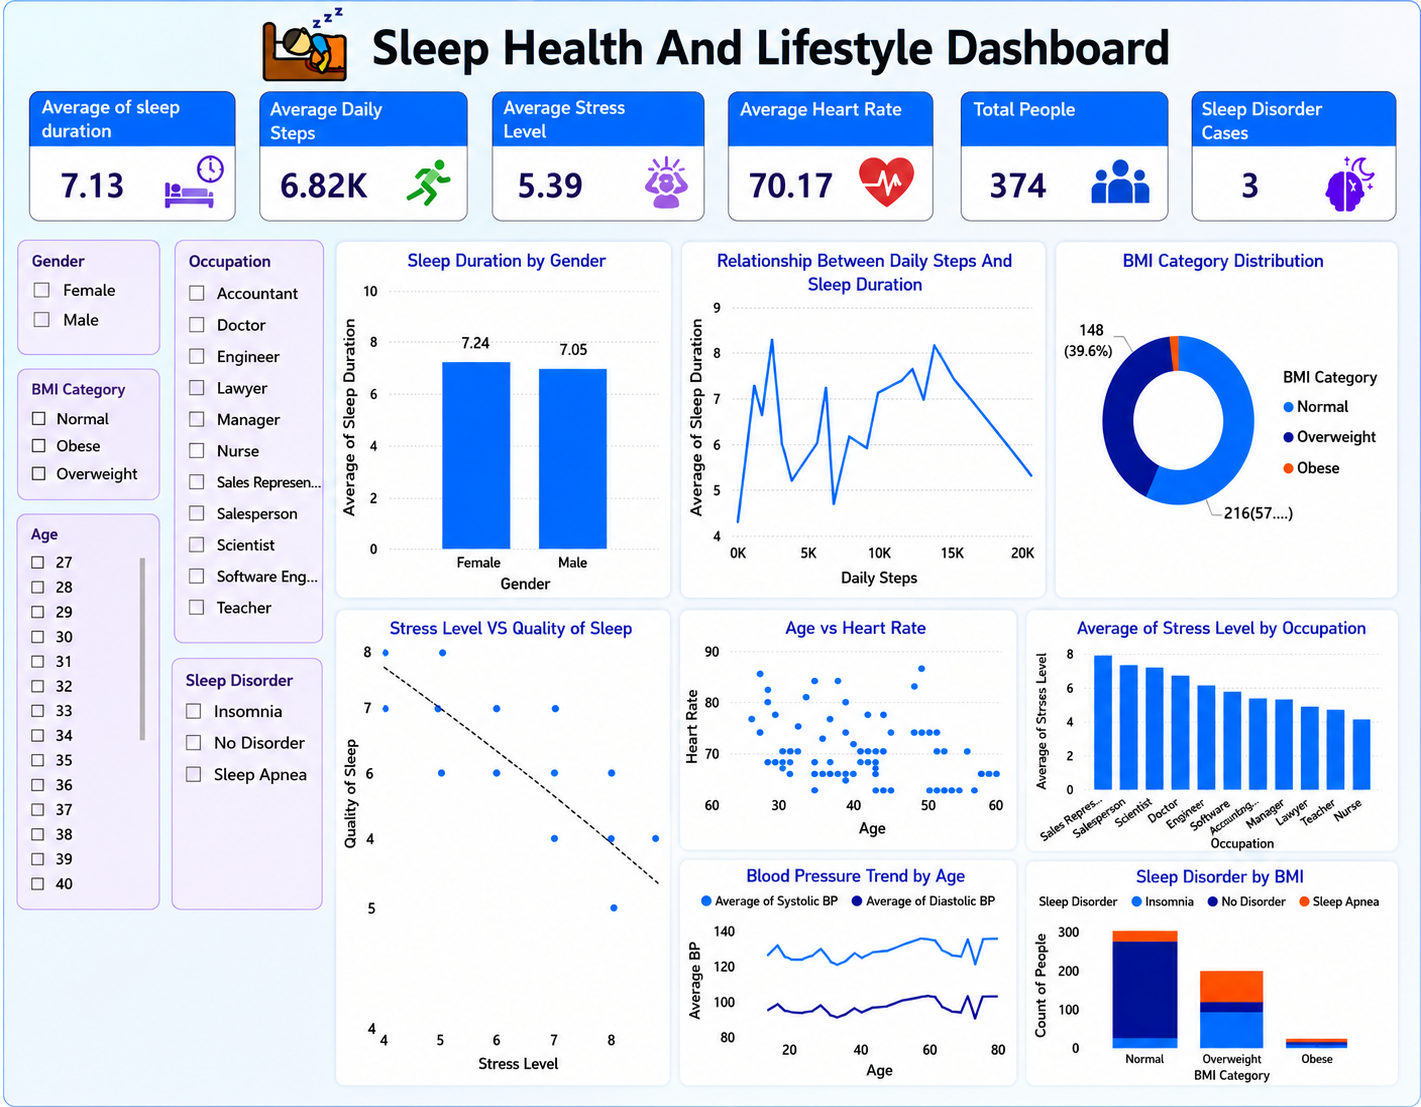

The page's visual inventory and layout, read from the dashboard file:
{"tool":"powerbi","page":{"name":"Page 1","canvas":[1701,1296],"ordinal":0},"visuals":[{"type":"textbox","box":[0,0,1700.2,86.4],"z":0},{"type":"cardVisual","title":"Average of  sleep duration","fields":{"Data":["Avg(Sheet1.Sleep Duration)"]},"box":[32.5,101.2,221.2,130],"z":1000},{"type":"cardVisual","title":"Average Stress Level","fields":{"Data":["Avg(Sheet1.Stress Level)"]},"box":[593.8,105,221.2,126.2],"z":2000},{"type":"cardVisual","title":"Average  Daily Steps","fields":{"Data":["Avg(Sheet1.Daily Steps)"]},"box":[323.5,102.9,221,129],"z":3000},{"type":"cardVisual","title":"Average Heart Rate","fields":{"Data":["Avg(Sheet1.Heart Rate)"]},"box":[878.8,106.2,218.8,125],"z":4000},{"type":"cardVisual","title":"Total People","fields":{"Data":["CountNonNull(Sheet1.Person ID)"]},"box":[1160,110,222.5,125],"z":5000},{"type":"cardVisual","title":"Sleep Disorder Cases","fields":{"Data":["Count(Sheet1.Sleep Disorder)"]},"box":[1426.5,105.9,221,129],"z":6000},{"type":"clusteredColumnChart","title":"Sleep Duration by Gender","fields":{"Category":["Sheet1.Gender"],"Y":["Avg(Sheet1.Sleep Duration)"]},"box":[402.9,276.5,411.8,341.2],"z":7000},{"type":"scatterChart","title":"Stress Level VS Quality of Sleep","fields":{"Y":["Sheet1.Quality of Sleep"],"X":["Sheet1.Stress Level"]},"box":[397.1,647.1,417.6,611.8],"z":8000},{"type":"lineChart","title":"Relationship Between Daily Steps And Sleep Duration","fields":{"Category":["Sheet1.Daily Steps"],"Y":["Avg(Sheet1.Sleep Duration)"]},"box":[823.5,276.5,400,341.2],"z":9000},{"type":"donutChart","title":" BMI Category Distribution","fields":{"Category":["Sheet1.BMI Category"],"Y":["CountNonNull(Sheet1.Person ID)"]},"box":[1242.5,282.5,412.5,332.5],"z":10000},{"type":"scatterChart","title":"Age vs Heart Rate","fields":{"X":["Sheet1.Age"],"Y":["Sheet1.Heart Rate"]},"box":[823.5,647.1,379.4,320.6],"z":11000},{"type":"lineChart","title":"Blood Pressure Trend by Age","fields":{"Category":["Sheet1.Age"],"Y":["Avg(Sheet1.Systolic_BP)","Avg(Sheet1.Diastolic_BP)"]},"box":[832.4,985.3,379.4,273.5],"z":12000},{"type":"columnChart","title":"Average of Stress Level by Occupation","fields":{"Category":["Sheet1.Occupation"],"Y":["Avg(Sheet1.Stress Level)"]},"box":[1220,637.5,435,330],"z":13000},{"type":"columnChart","title":"Sleep Disorder by BMI","fields":{"Category":["Sheet1.BMI Category"],"Series":["Sheet1.Sleep Disorder"],"Y":["CountNonNull(Sheet1.Person ID)"]},"box":[1225,985,432.5,275],"z":14000},{"type":"slicer","fields":{"Values":["Sheet1.Gender"]},"box":[32.4,288.2,158.8,264.7],"z":15000},{"type":"slicer","fields":{"Values":["Sheet1.Age"]},"box":[222.5,465,157.5,465],"z":16000},{"type":"slicer","fields":{"Values":["Sheet1.Occupation"]},"box":[32.4,582.4,158.8,638.2],"z":17000},{"type":"slicer","fields":{"Values":["Sheet1.Sleep Disorder"]},"box":[220.6,958.8,158.8,261.8],"z":18000},{"type":"slicer","fields":{"Values":["Sheet1.BMI Category"]},"box":[218.6,275.3,159.2,172.7],"z":19000},{"type":"image","box":[255,0,237.5,87.5],"z":20000},{"type":"image","box":[32.5,170,78.8,42.5],"z":20001},{"type":"image","box":[338.8,100,61.2,188.8],"z":20002},{"type":"image","box":[581.2,166.2,115,46.2],"z":20003},{"type":"image","box":[891.2,122.5,43.8,132.5],"z":20004},{"type":"image","box":[1185,156.2,56.2,67.5],"z":20005},{"type":"image","box":[1440,145,61.2,98.8],"z":20006}]}

Visuals, with their boxes in screenshot pixels (x1, y1, x2, y2), scaled from the page's 1701x1296 canvas onto the 1421x1107 screenshot:
textbox: (left=0, top=0, right=1420, bottom=74)
"Average of  sleep duration" cardVisual: (left=27, top=86, right=212, bottom=197)
"Average Stress Level" cardVisual: (left=496, top=90, right=681, bottom=197)
"Average  Daily Steps" cardVisual: (left=270, top=88, right=455, bottom=198)
"Average Heart Rate" cardVisual: (left=734, top=91, right=917, bottom=197)
"Total People" cardVisual: (left=969, top=94, right=1155, bottom=201)
"Sleep Disorder Cases" cardVisual: (left=1192, top=90, right=1376, bottom=201)
"Sleep Duration by Gender" clusteredColumnChart: (left=337, top=236, right=681, bottom=528)
"Stress Level VS Quality of Sleep" scatterChart: (left=332, top=553, right=681, bottom=1075)
"Relationship Between Daily Steps And Sleep Duration" lineChart: (left=688, top=236, right=1022, bottom=528)
" BMI Category Distribution" donutChart: (left=1038, top=241, right=1383, bottom=525)
"Age vs Heart Rate" scatterChart: (left=688, top=553, right=1005, bottom=827)
"Blood Pressure Trend by Age" lineChart: (left=695, top=842, right=1012, bottom=1075)
"Average of Stress Level by Occupation" columnChart: (left=1019, top=545, right=1383, bottom=826)
"Sleep Disorder by BMI" columnChart: (left=1023, top=841, right=1385, bottom=1076)
slicer - Sheet1.Gender: (left=27, top=246, right=160, bottom=472)
slicer - Sheet1.Age: (left=186, top=397, right=317, bottom=794)
slicer - Sheet1.Occupation: (left=27, top=497, right=160, bottom=1043)
slicer - Sheet1.Sleep Disorder: (left=184, top=819, right=317, bottom=1043)
slicer - Sheet1.BMI Category: (left=183, top=235, right=316, bottom=383)
image: (left=213, top=0, right=411, bottom=75)
image: (left=27, top=145, right=93, bottom=182)
image: (left=283, top=85, right=334, bottom=247)
image: (left=486, top=142, right=582, bottom=181)
image: (left=745, top=105, right=781, bottom=218)
image: (left=990, top=133, right=1037, bottom=191)
image: (left=1203, top=124, right=1254, bottom=208)
